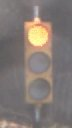Red: (17, 15, 61, 114)
